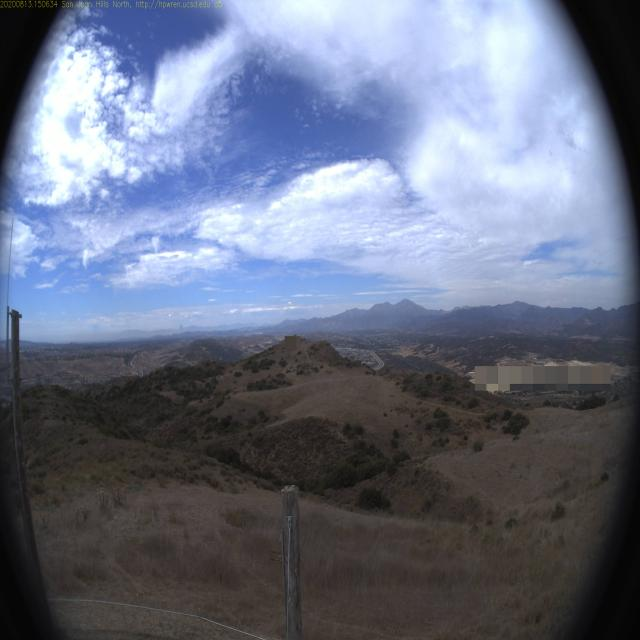smoke: (178, 324, 187, 338)
